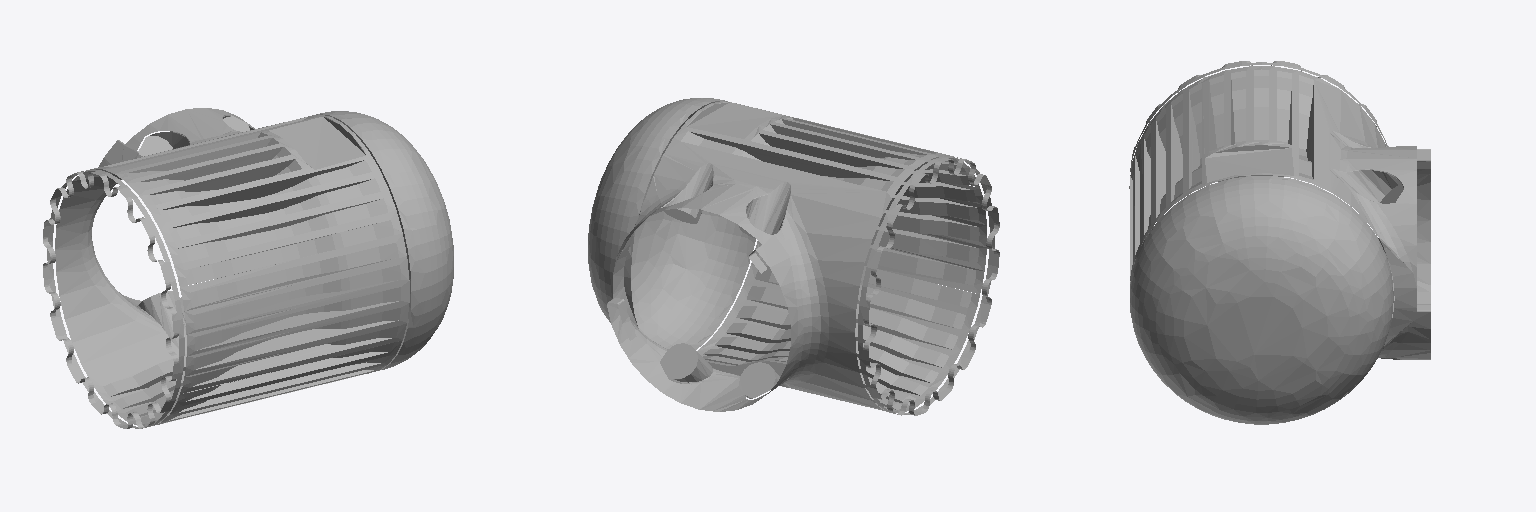
The model's file is hip-yaw-housing.obj.
3 renders of one model, left to right at view 1: azimuth 30°, elevation 25°; view 2: azimuth 150°, elevation 25°; view 3: azimuth 270°, elevation 25°, orthographic.
Visible parts, largest first — view 1: __TMPOBJ_____TMPMESH__.071; view 2: __TMPOBJ_____TMPMESH__.071; view 3: __TMPOBJ_____TMPMESH__.071.
Boxes of the visible parts, x1,y1,x2,y2 form: __TMPOBJ_____TMPMESH__.071: [43, 108, 453, 428]; __TMPOBJ_____TMPMESH__.071: [588, 98, 999, 415]; __TMPOBJ_____TMPMESH__.071: [1129, 61, 1430, 424].
Size of the model in its own units: 0.1015 by 0.074 by 0.0842.